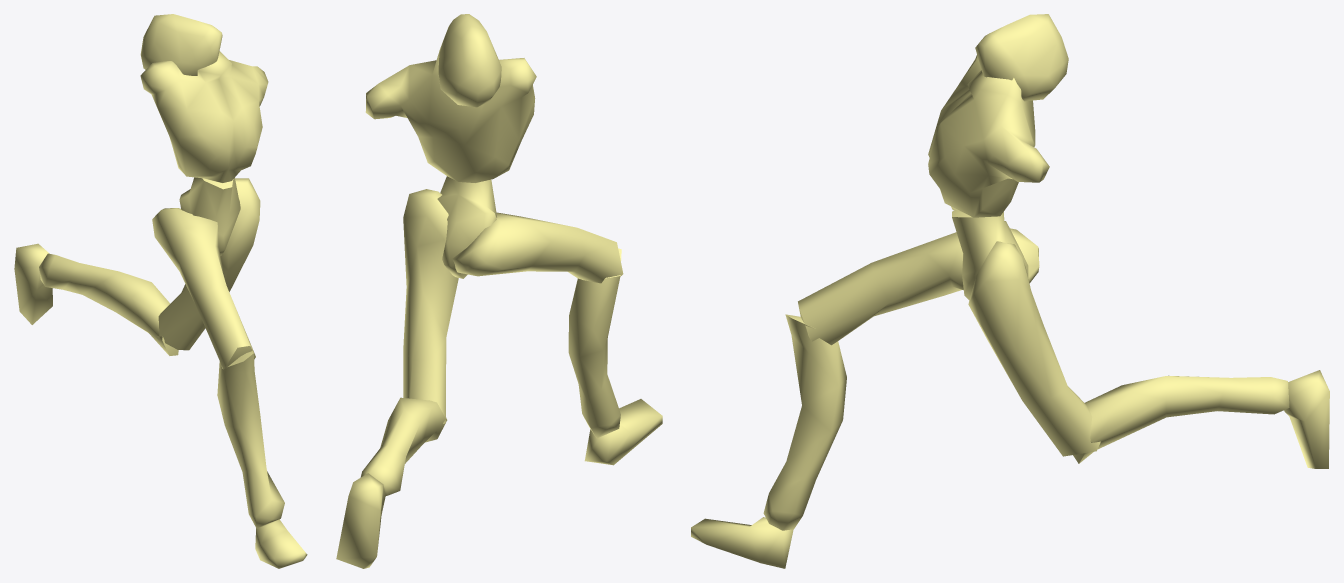
Rendered from filth24.obj.
3 views of the same model, side by side, from view 1: azimuth 30°, elevation 25°; view 2: azimuth 150°, elevation 25°; view 3: azimuth 270°, elevation 25° (orthographic). The views are drawn at different scales.
Parts seen in each view (by area): view 1: Melee_Husk; view 2: Melee_Husk; view 3: Melee_Husk.
Part boxes in pixels (x1,y1,x2,y2): Melee_Husk: (14,14,307,568); Melee_Husk: (336,14,662,568); Melee_Husk: (691,14,1329,568).
Size of the model in its own units: 20.13 by 66.18 by 68.95.
